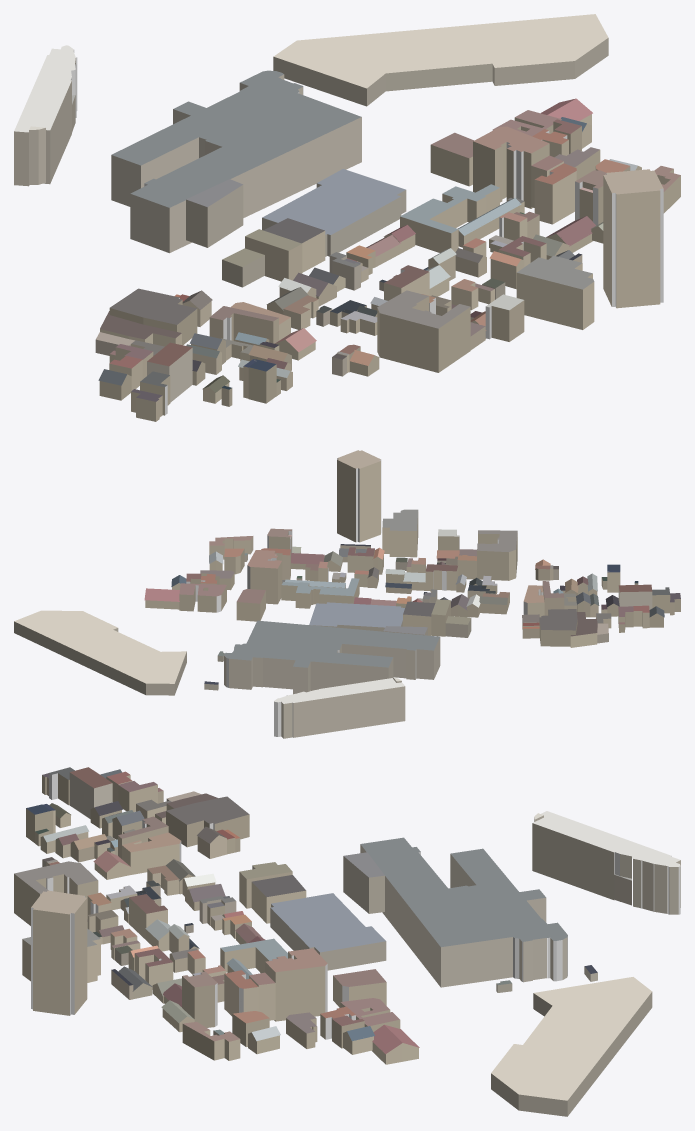
3 renders of one model, top to bottom at view 1: azimuth 30°, elevation 25°; view 2: azimuth 150°, elevation 25°; view 3: azimuth 270°, elevation 25°, orthographic. The views are drawn at different scales.
Parts seen in each view (by area): view 1: tuile; view 2: tuile; view 3: tuile.
Boxes of the visible parts, bbox=[...] form: tuile: bbox=[14, 14, 680, 421]; tuile: bbox=[14, 450, 680, 738]; tuile: bbox=[14, 767, 680, 1116].
Size of the model in its own units: 310 by 48.64 by 268.
